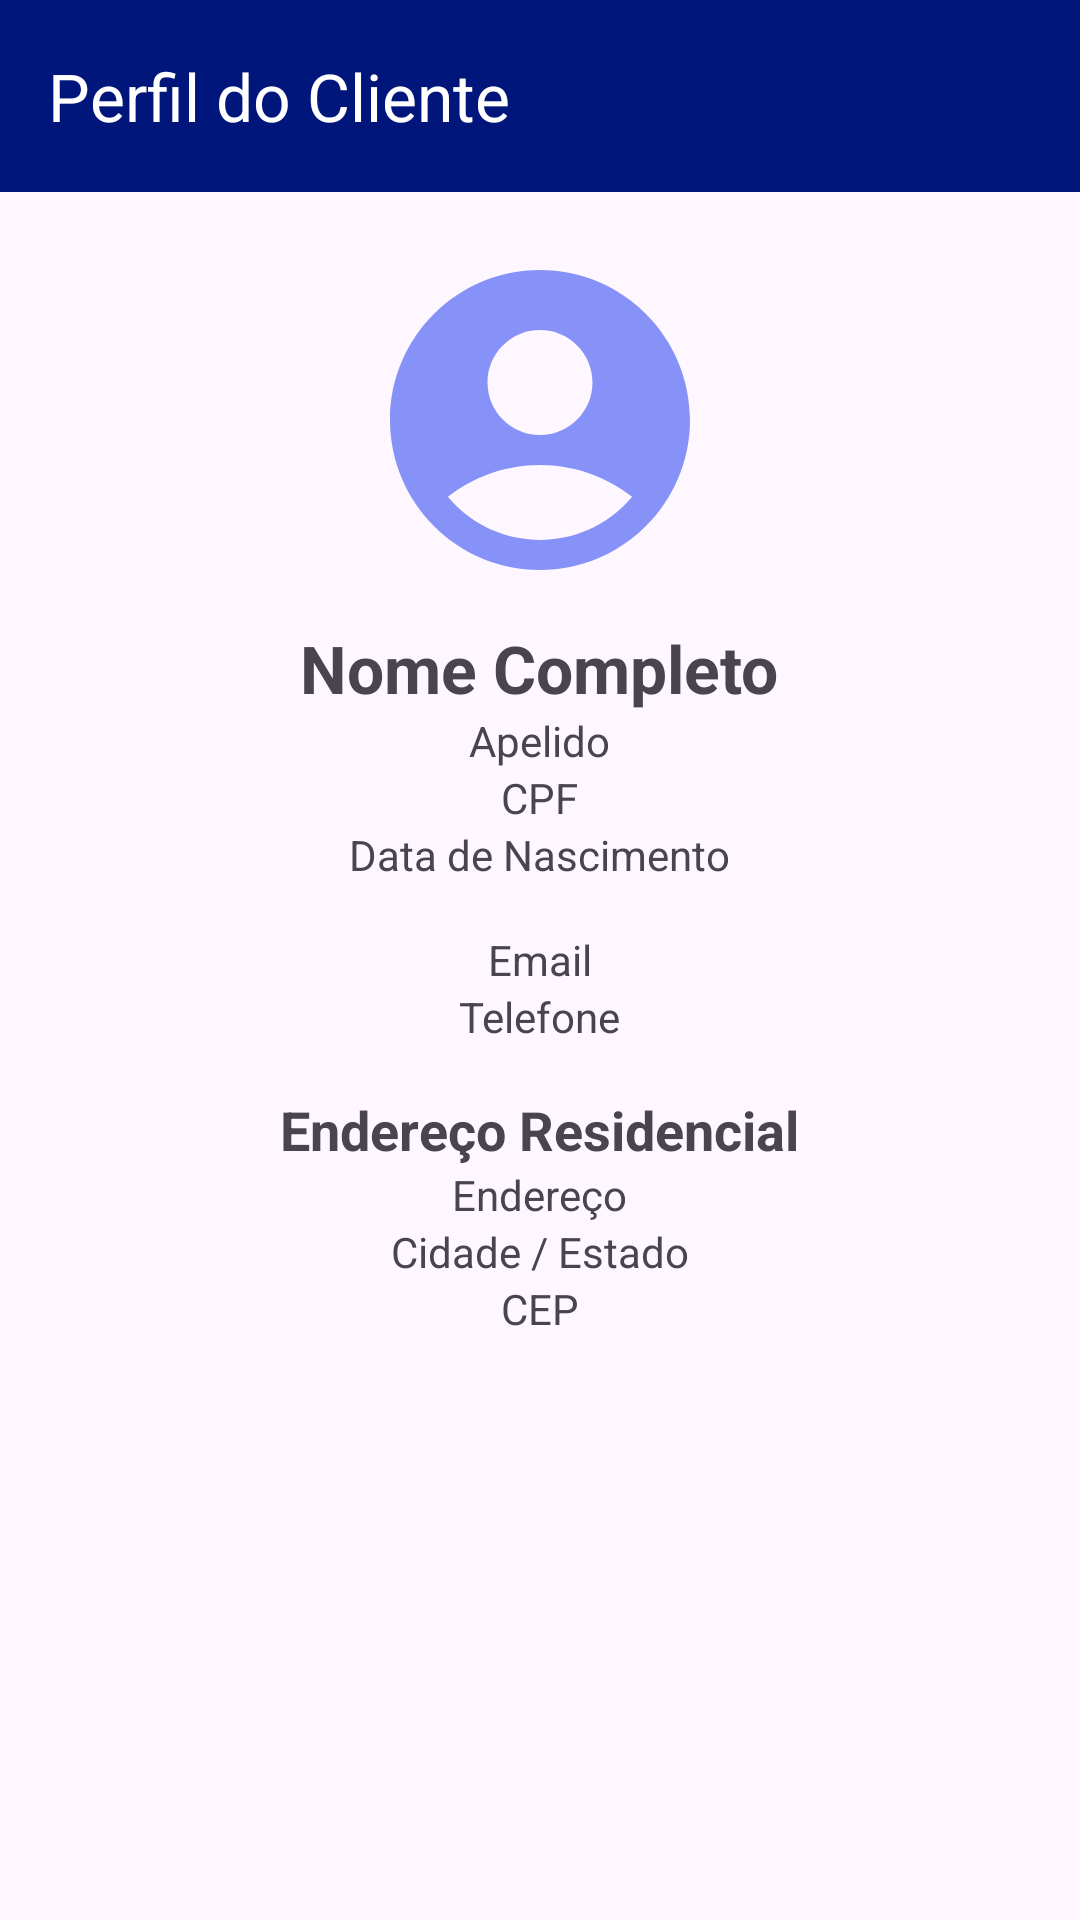

Named icons in this screenshot (1080px×1920px) and their centers, (x=x, y=y):
account circle: (x=540, y=420)
